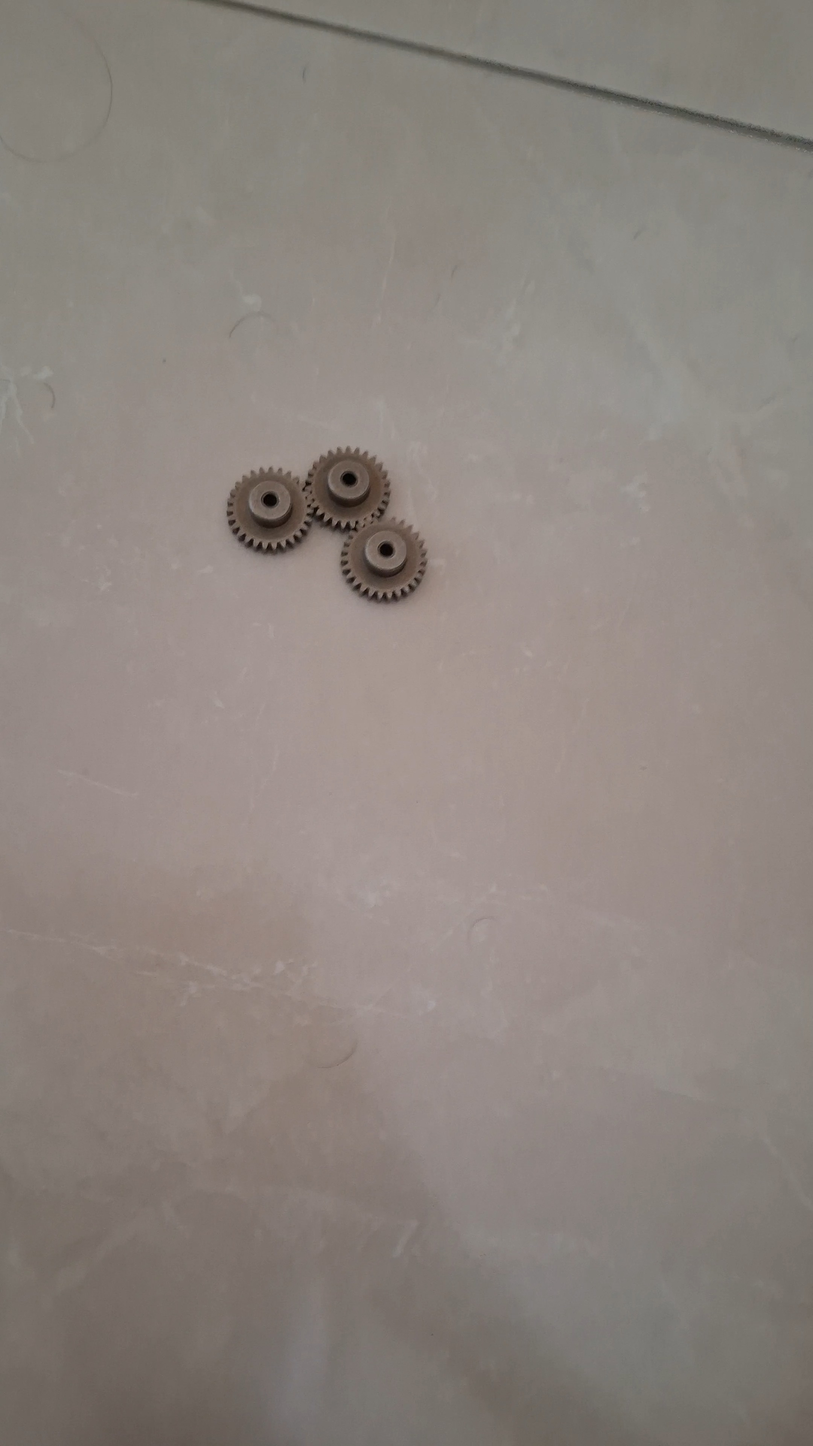spur gear: (341, 519, 426, 601), (227, 470, 311, 552), (307, 449, 389, 530)
